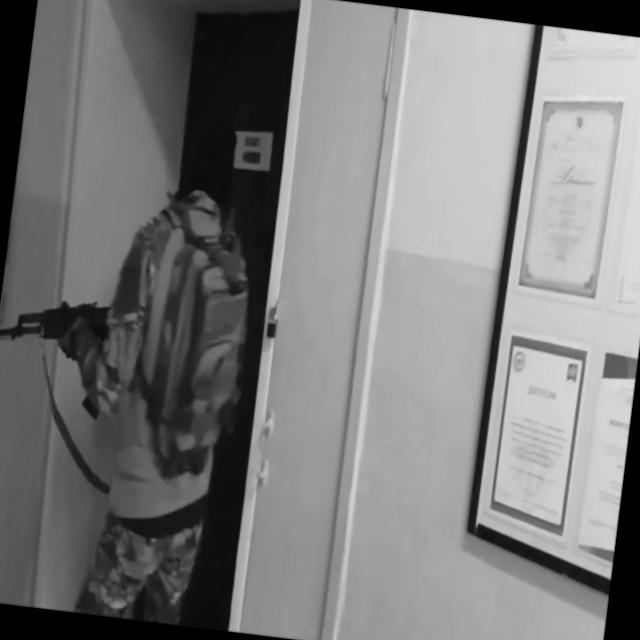gun: (0, 289, 117, 423)
person with a gun: (0, 93, 273, 629)
